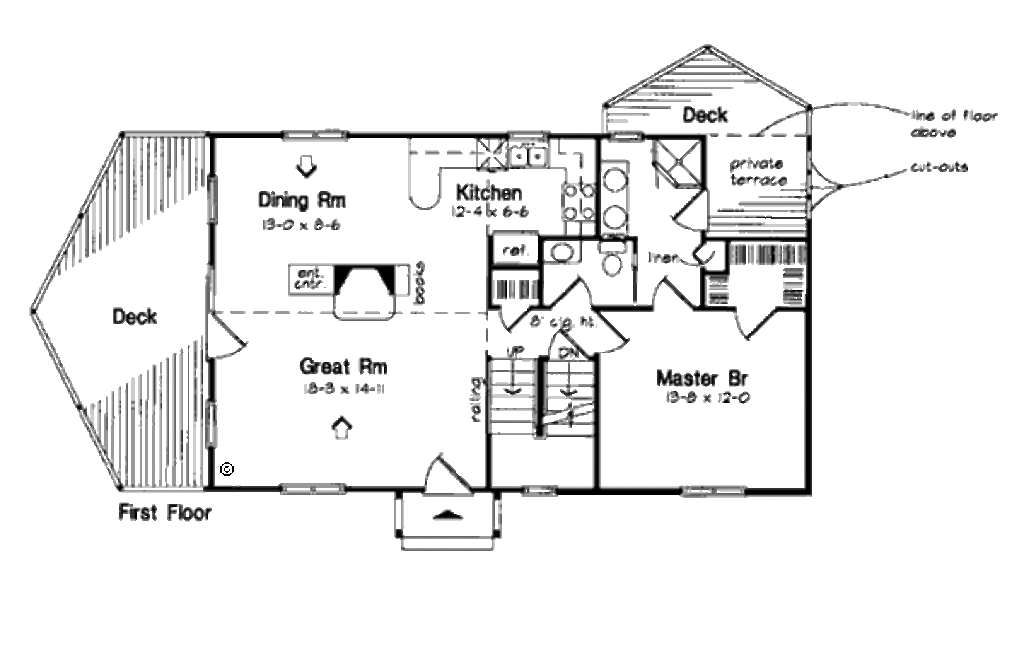door: (206, 308, 248, 358), (427, 454, 470, 498), (541, 327, 593, 363), (541, 278, 596, 311), (672, 186, 709, 235), (655, 272, 697, 314), (593, 311, 632, 352), (735, 308, 772, 344), (500, 299, 533, 332)
large_sink: (595, 242, 629, 282)
small_sink: (600, 161, 634, 235), (541, 239, 590, 266)
stairs: (491, 354, 598, 432)
twin_sink: (509, 135, 551, 169)
window: (279, 479, 361, 499), (200, 174, 228, 230), (281, 126, 350, 144), (678, 482, 746, 500), (202, 403, 221, 451), (518, 482, 560, 502)
